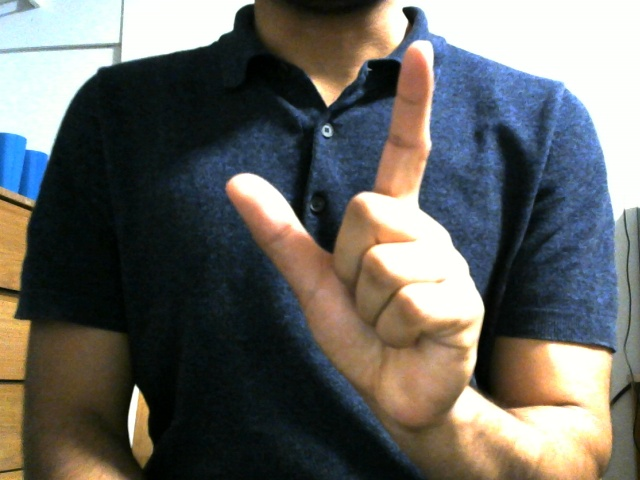L: (221, 30, 499, 424)
